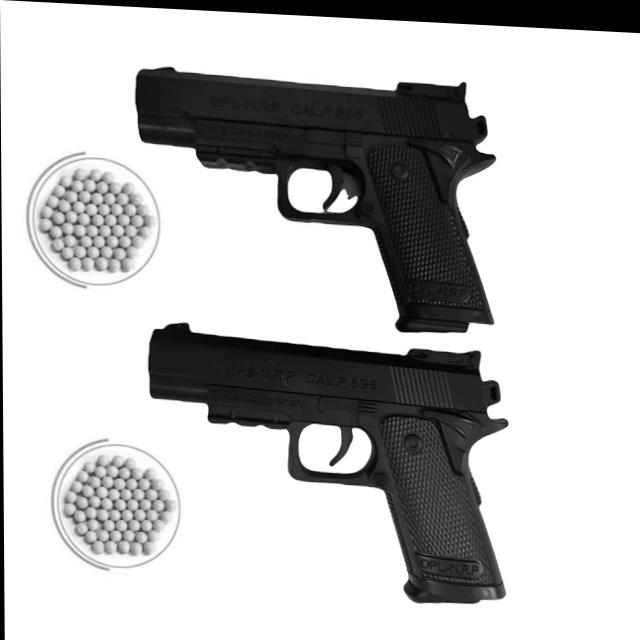handgun: (143, 320, 512, 599), (136, 53, 496, 326)
